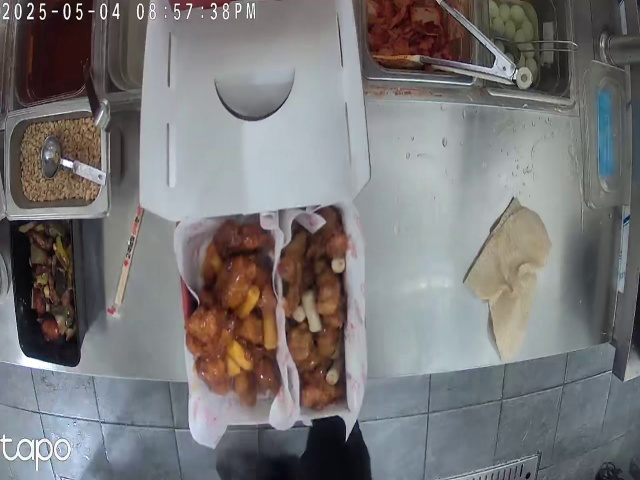delivery box: (157, 0, 361, 414)
food: (193, 222, 279, 399), (287, 216, 348, 391)
